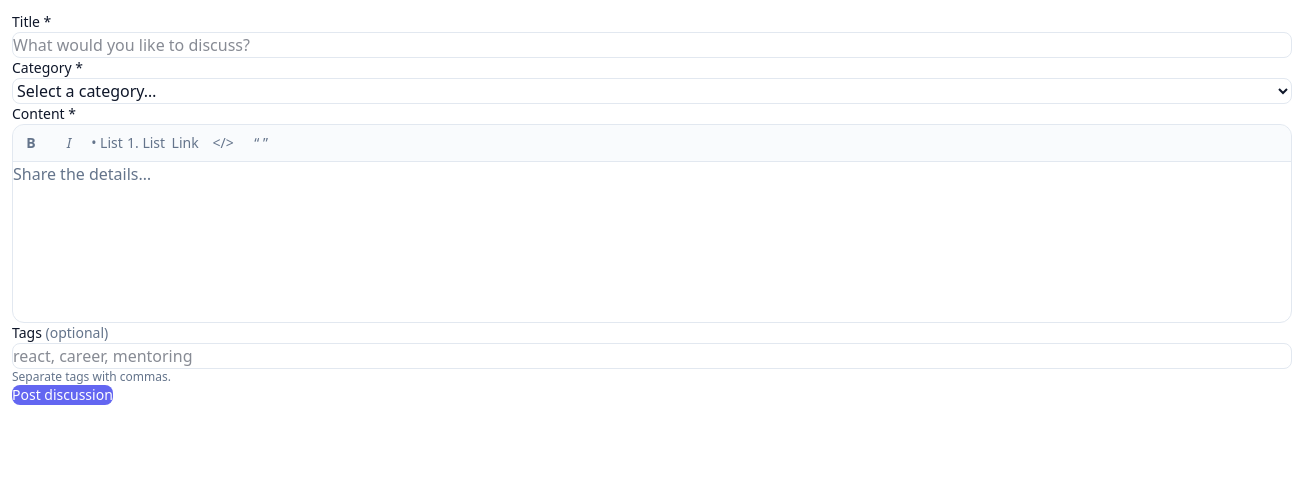
Test: DiscussionForm › blocks submission when required fields are empty
Click the button "Post discussion" at point(62, 395), box [12,385,113,405]
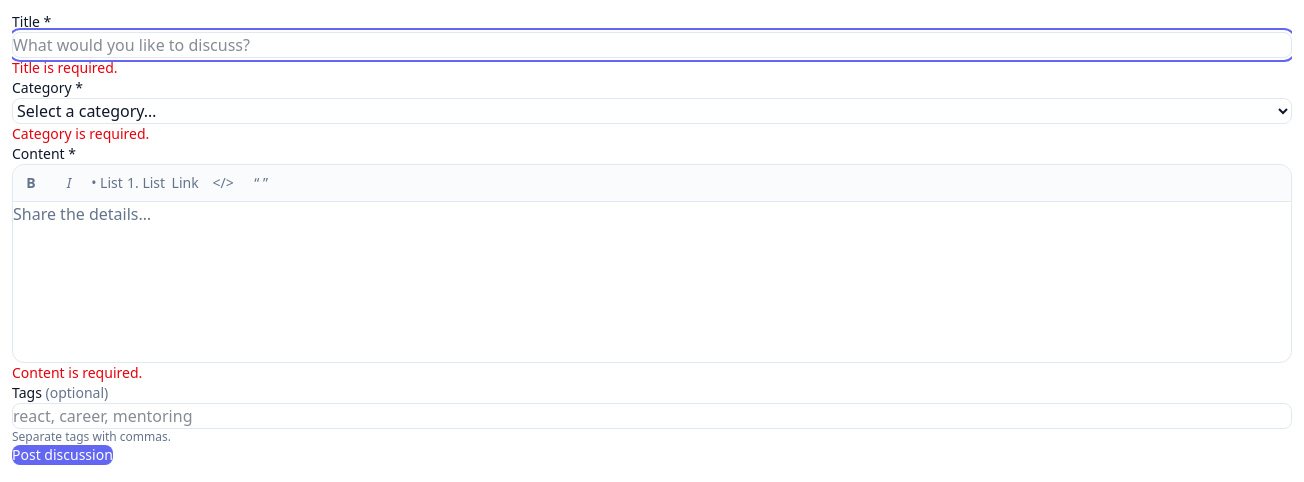
Expected: the text "Title is required." is shown, [12,58,118,77]
Expected: the text "Category is required." is shown, [12,124,149,143]
Expected: the text "Content is required." is shown, [12,363,142,382]
